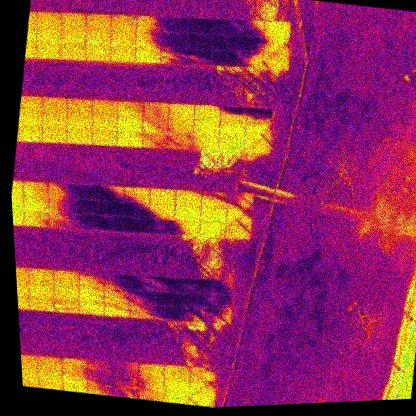Hotspot: (108, 27, 138, 50), (83, 26, 113, 49), (15, 123, 44, 145), (110, 11, 138, 33), (27, 294, 56, 314), (53, 296, 81, 315)
Normal: (193, 100, 222, 124), (88, 127, 119, 149), (40, 95, 69, 118), (64, 94, 94, 116), (58, 25, 88, 47), (167, 100, 197, 121), (147, 185, 177, 206), (51, 268, 81, 289), (261, 19, 292, 39), (35, 23, 63, 45), (90, 112, 119, 133), (65, 111, 94, 132), (115, 129, 144, 150), (198, 204, 227, 225), (26, 266, 55, 287), (133, 44, 162, 65), (58, 41, 87, 62), (17, 107, 44, 129), (116, 113, 144, 134), (242, 136, 270, 157), (64, 126, 92, 147), (174, 187, 202, 208), (22, 193, 50, 214), (34, 40, 62, 61), (217, 120, 246, 140), (173, 203, 202, 223), (84, 11, 113, 31), (82, 43, 111, 63), (190, 133, 220, 152), (41, 125, 68, 146), (91, 97, 119, 117), (243, 121, 271, 141), (192, 118, 220, 138), (41, 111, 69, 131), (217, 136, 245, 156), (198, 219, 226, 239), (27, 281, 55, 301), (78, 297, 106, 317), (60, 10, 88, 30), (109, 45, 137, 65), (162, 363, 191, 382), (60, 368, 89, 387), (37, 354, 64, 374), (21, 179, 49, 198), (21, 209, 49, 228), (52, 283, 80, 302), (138, 360, 166, 379), (162, 376, 190, 395), (35, 368, 63, 387), (35, 9, 63, 28), (60, 354, 88, 372), (19, 93, 44, 112), (21, 351, 39, 370), (22, 365, 40, 383), (16, 264, 30, 285), (17, 280, 29, 297), (17, 293, 29, 310)
Shadow: (225, 189, 254, 213), (260, 49, 289, 72), (211, 16, 241, 38), (140, 100, 171, 121), (141, 114, 169, 137), (135, 27, 163, 50), (218, 104, 247, 126), (166, 117, 195, 139), (141, 129, 170, 151), (121, 199, 150, 221), (205, 276, 234, 298), (46, 180, 76, 201), (126, 287, 156, 308), (160, 14, 190, 35), (116, 98, 144, 120), (244, 106, 273, 127), (199, 187, 228, 208), (147, 200, 176, 221), (223, 221, 252, 242), (180, 275, 209, 296), (153, 289, 182, 310), (236, 34, 265, 55), (172, 218, 202, 238), (110, 358, 140, 378), (209, 47, 239, 67), (135, 373, 166, 392), (166, 131, 194, 152), (122, 184, 150, 205), (97, 183, 125, 204), (146, 215, 174, 236), (129, 272, 157, 293), (179, 290, 207, 311), (186, 15, 214, 36), (185, 30, 213, 51), (235, 48, 263, 69), (72, 182, 101, 202), (45, 196, 74, 216), (154, 274, 183, 294), (102, 271, 131, 291), (204, 293, 233, 313), (152, 303, 181, 323), (127, 302, 156, 322), (236, 18, 265, 38), (134, 13, 163, 33), (261, 34, 290, 54), (210, 33, 239, 53), (158, 30, 187, 50), (97, 199, 125, 219), (72, 198, 100, 218), (122, 215, 150, 235), (188, 365, 216, 385), (184, 46, 212, 66), (159, 45, 187, 65), (223, 208, 252, 227), (76, 285, 105, 304), (203, 308, 232, 327), (101, 301, 130, 320), (187, 379, 216, 398), (96, 213, 124, 232), (77, 271, 105, 290), (102, 288, 130, 307), (178, 306, 206, 325), (85, 357, 113, 376), (70, 212, 99, 230), (45, 210, 74, 228), (110, 372, 138, 390), (86, 371, 113, 388)
